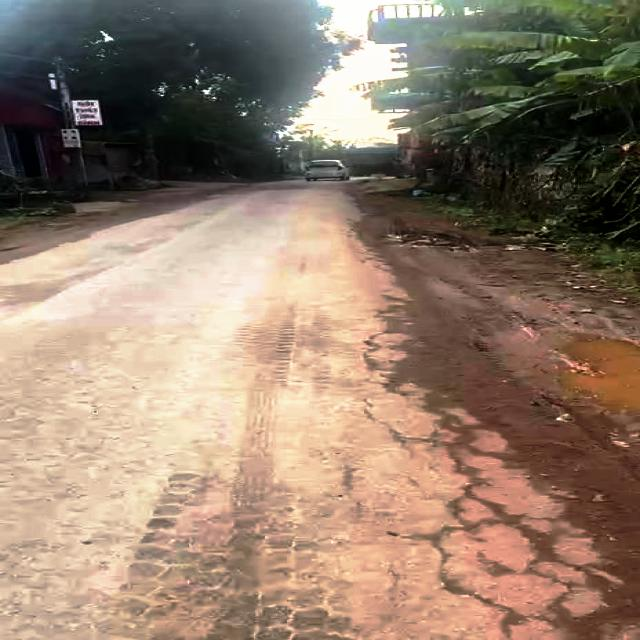pothole: (507, 319, 640, 426)
